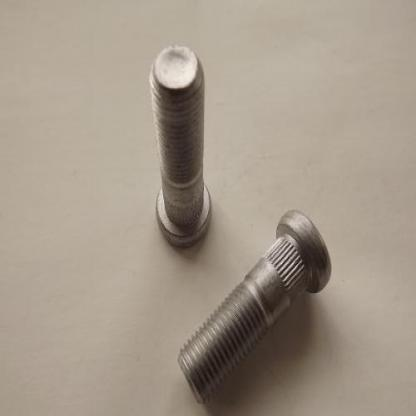FOD: (175, 207, 332, 408), (150, 43, 214, 250)
